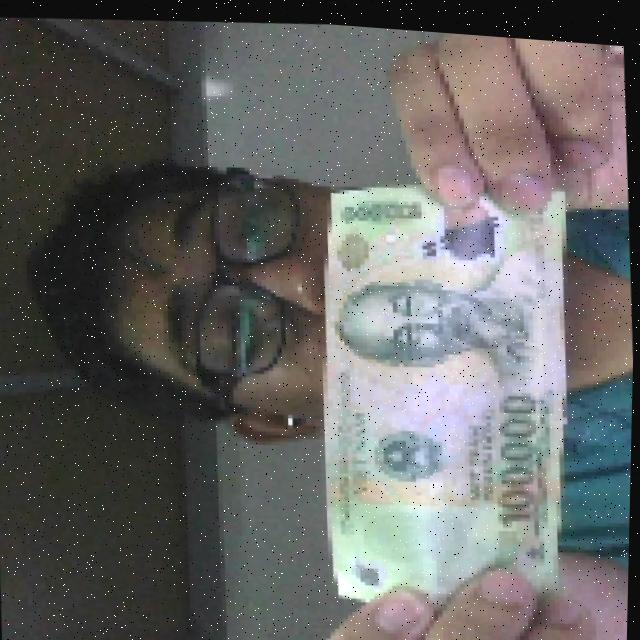100 000 VND: (301, 159, 593, 622)
